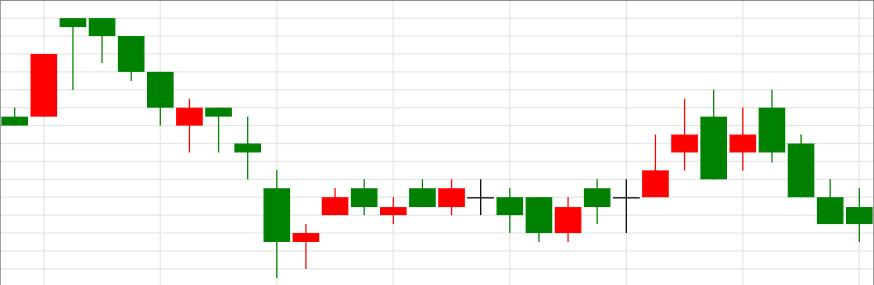three_black_crows_fall: (526, 89, 844, 243), (0, 17, 175, 128)
